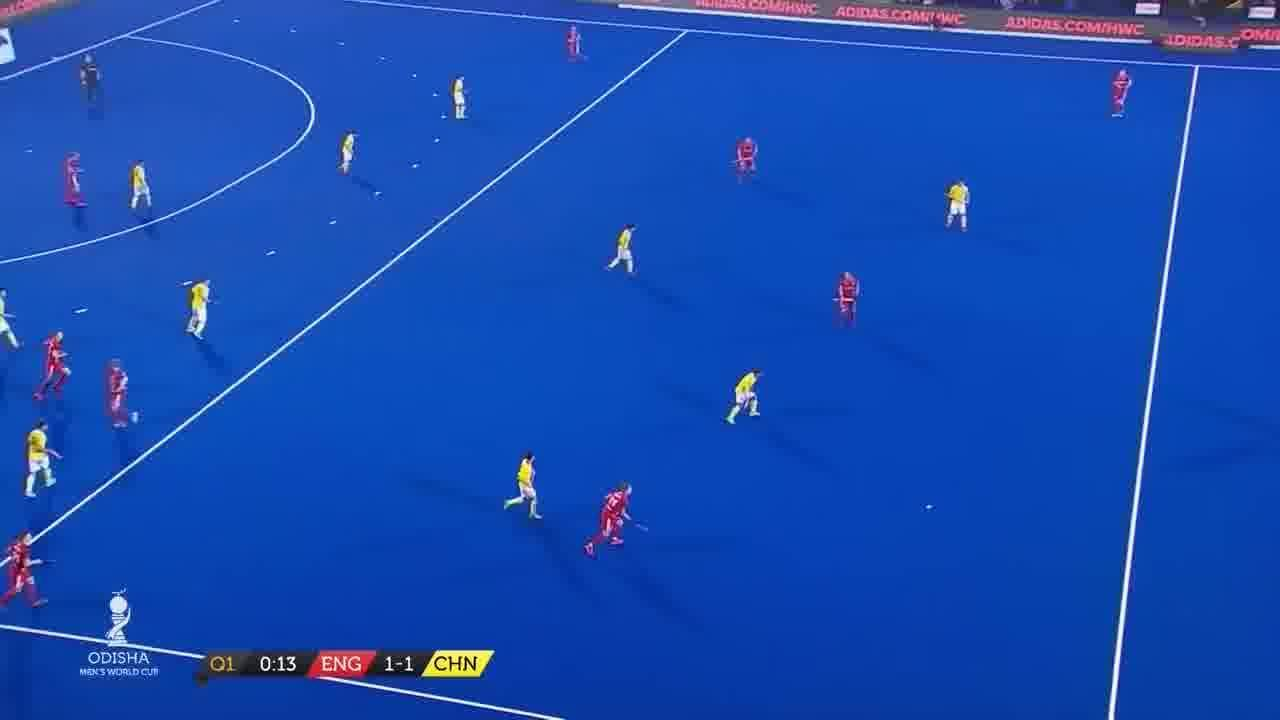ball: (924, 503, 934, 517)
